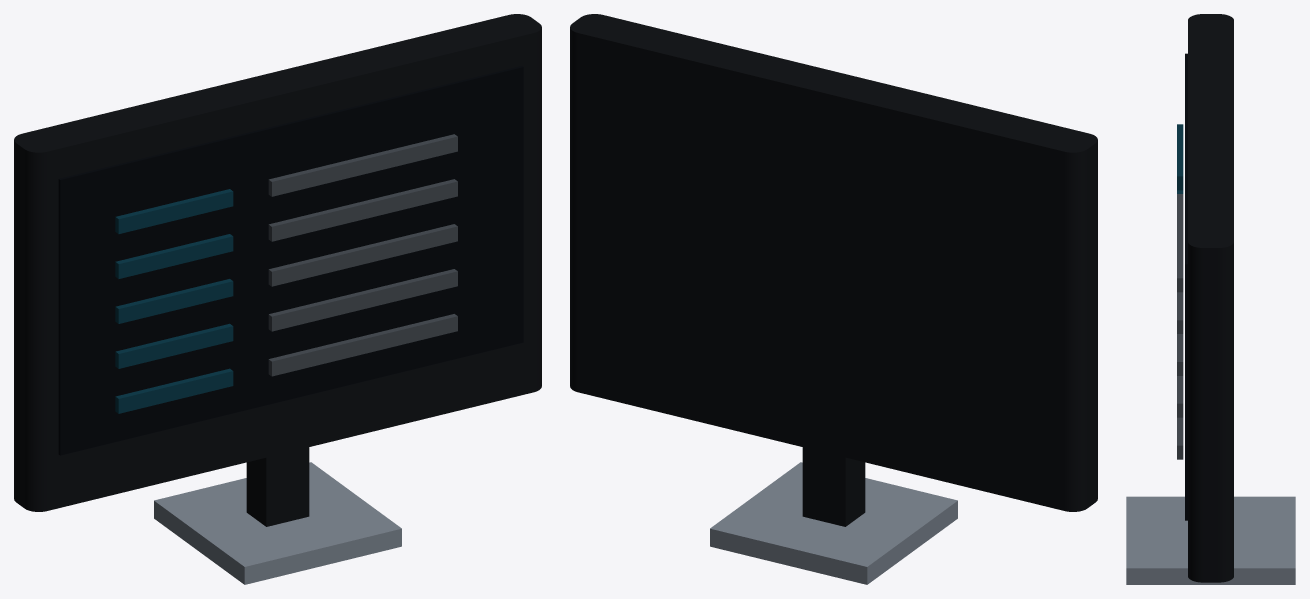
Rendered from software_data.glb.
The picture shows the model from 3 angles, left to right: view 1: azimuth 30°, elevation 25°; view 2: azimuth 150°, elevation 25°; view 3: azimuth 270°, elevation 25°; orthographic projection. The views are drawn at different scales.
Visible parts, largest first — view 1: software; view 2: software; view 3: software.
Part boxes in pixels (<box>): software: <box>14,14,541,584</box>; software: <box>570,14,1097,584</box>; software: <box>1126,14,1295,584</box>.
Size of the model in its own units: 0.18 by 0.15 by 0.055.
